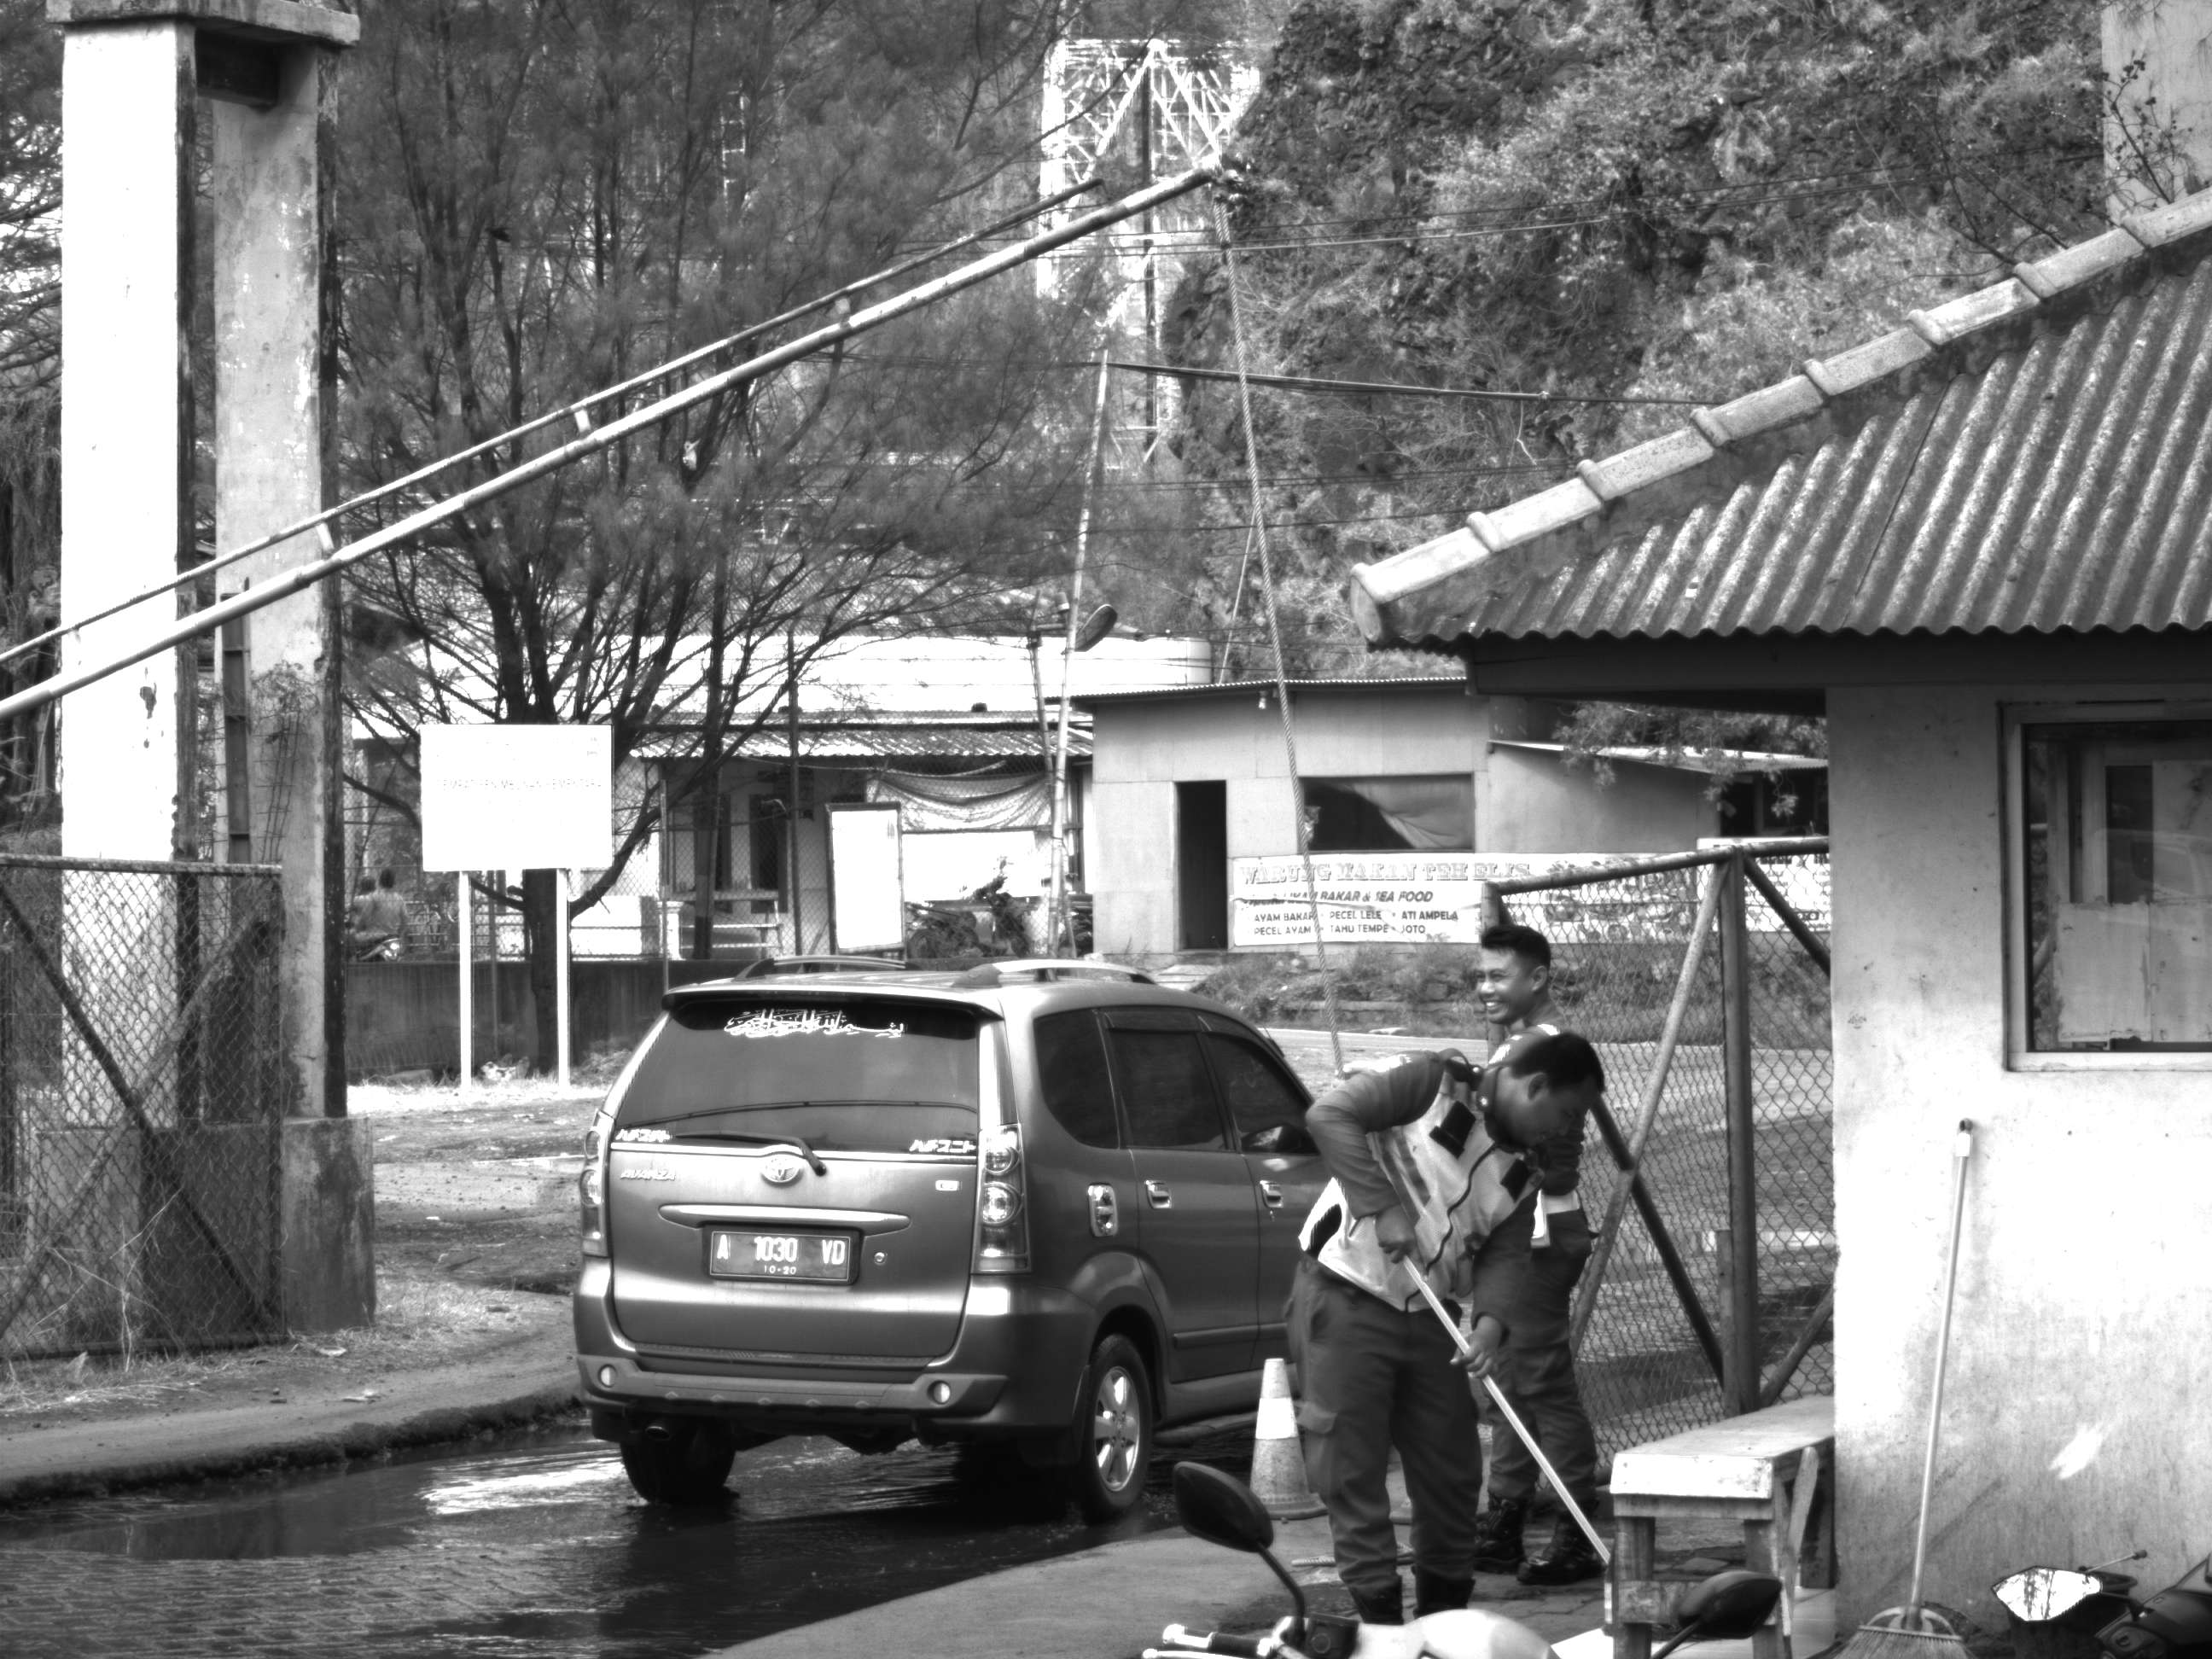day_small_rear: (564, 950, 1170, 1524)
plate: (706, 1229, 863, 1280)
